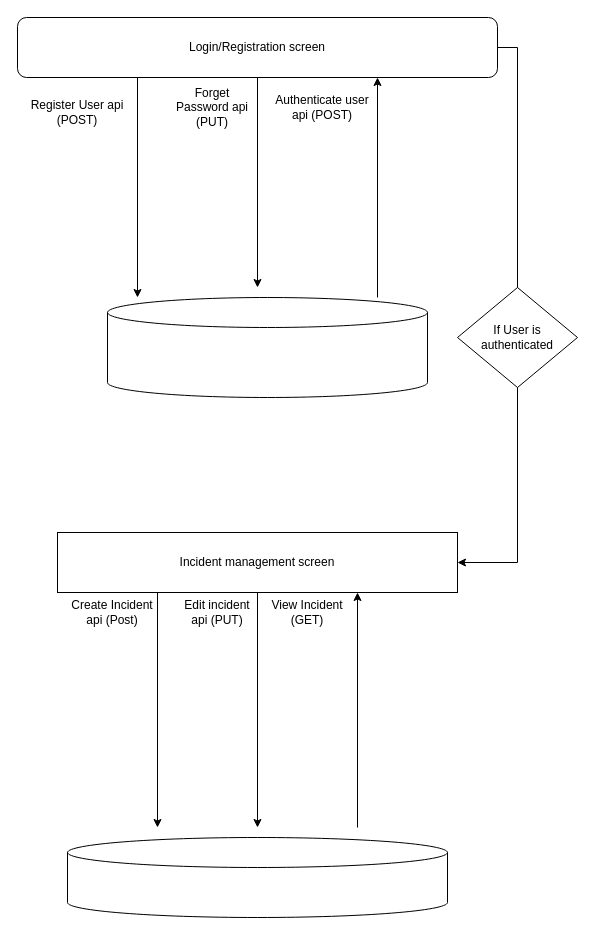
Image size: 595x935. Some labels were removed from this diagram. Each missing label, with the centre of its shape:
Incident Detail Table: the point at 257,877
User Details Table: the point at 267,347
